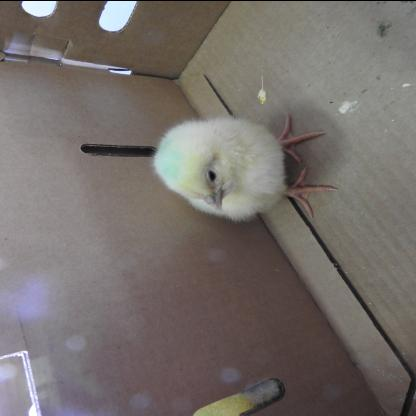Chicken: (138, 119, 324, 219)
